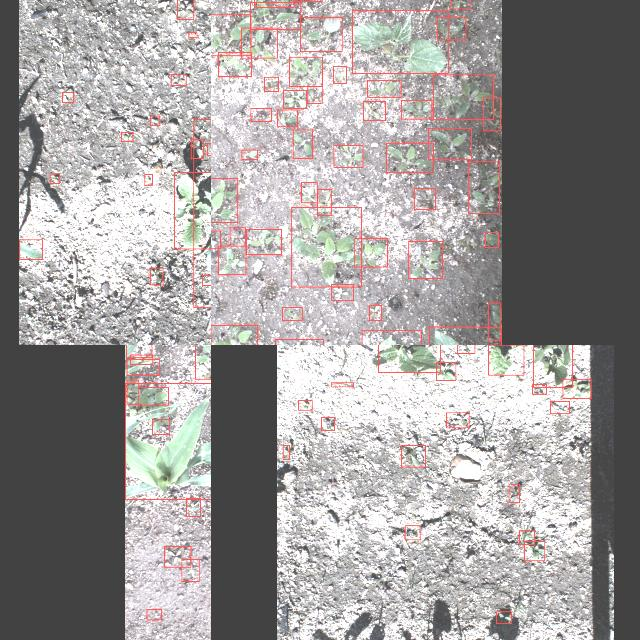crop: (124, 383, 211, 499), (352, 9, 448, 72), (193, 118, 211, 306), (378, 345, 440, 372), (533, 345, 572, 386), (488, 345, 524, 374), (126, 359, 158, 375), (18, 239, 42, 259), (125, 345, 151, 356)
weed: (291, 206, 361, 286), (174, 171, 211, 248), (432, 74, 493, 118), (468, 161, 499, 213), (211, 14, 249, 55), (386, 142, 434, 172), (300, 17, 342, 51), (250, 1, 300, 28), (408, 240, 442, 278), (428, 128, 470, 158), (211, 178, 237, 222), (240, 27, 276, 57), (288, 56, 322, 85), (354, 238, 388, 266), (211, 324, 256, 345), (246, 228, 280, 254), (217, 246, 245, 274), (218, 52, 250, 76), (436, 16, 466, 40), (333, 145, 362, 167), (292, 128, 312, 158), (482, 98, 500, 130), (194, 345, 211, 378), (563, 378, 591, 398), (367, 80, 401, 96), (401, 100, 431, 118), (137, 386, 167, 404), (401, 444, 425, 466), (164, 546, 190, 566), (488, 302, 500, 340), (413, 188, 435, 208), (363, 100, 385, 120), (282, 90, 306, 108), (524, 540, 544, 560), (317, 189, 331, 215), (435, 361, 455, 379), (331, 284, 353, 300), (182, 559, 198, 581), (446, 412, 468, 428), (300, 182, 316, 202), (277, 110, 297, 126), (177, 0, 193, 18), (126, 379, 138, 403), (282, 306, 302, 320), (253, 0, 293, 7), (190, 138, 203, 158), (306, 86, 322, 102), (152, 418, 168, 434), (230, 227, 244, 245), (186, 498, 200, 516), (250, 108, 270, 120), (332, 66, 346, 82), (404, 525, 420, 539), (518, 530, 534, 544), (130, 354, 152, 364), (508, 484, 520, 502), (550, 401, 568, 413), (485, 232, 499, 246), (264, 76, 278, 90), (150, 268, 162, 284), (369, 304, 381, 320), (321, 416, 334, 430), (170, 74, 186, 85), (211, 230, 220, 248), (241, 149, 257, 159), (450, 0, 469, 8), (456, 345, 474, 353), (146, 609, 160, 619), (496, 612, 510, 622), (297, 400, 311, 410), (532, 383, 546, 393), (201, 275, 211, 285), (149, 115, 159, 125), (49, 173, 59, 183), (62, 92, 72, 102), (120, 132, 132, 140), (282, 444, 288, 460), (144, 173, 152, 184), (330, 382, 352, 386), (207, 143, 211, 155), (188, 32, 196, 36)
